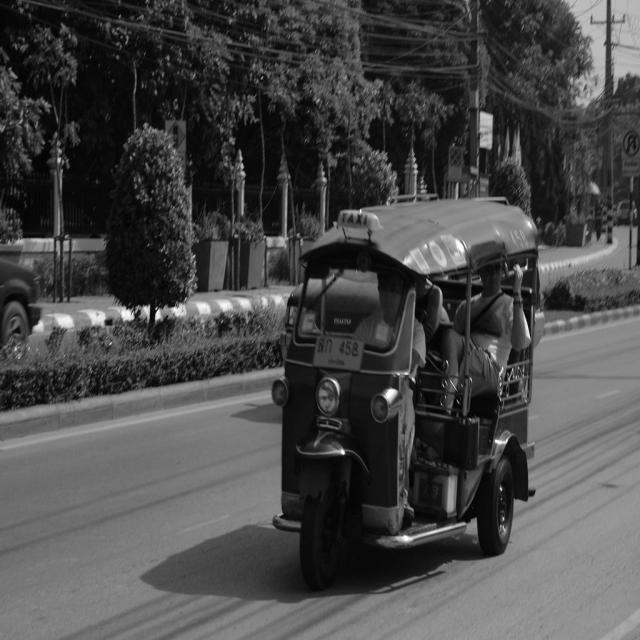plate: (315, 333, 365, 368)
